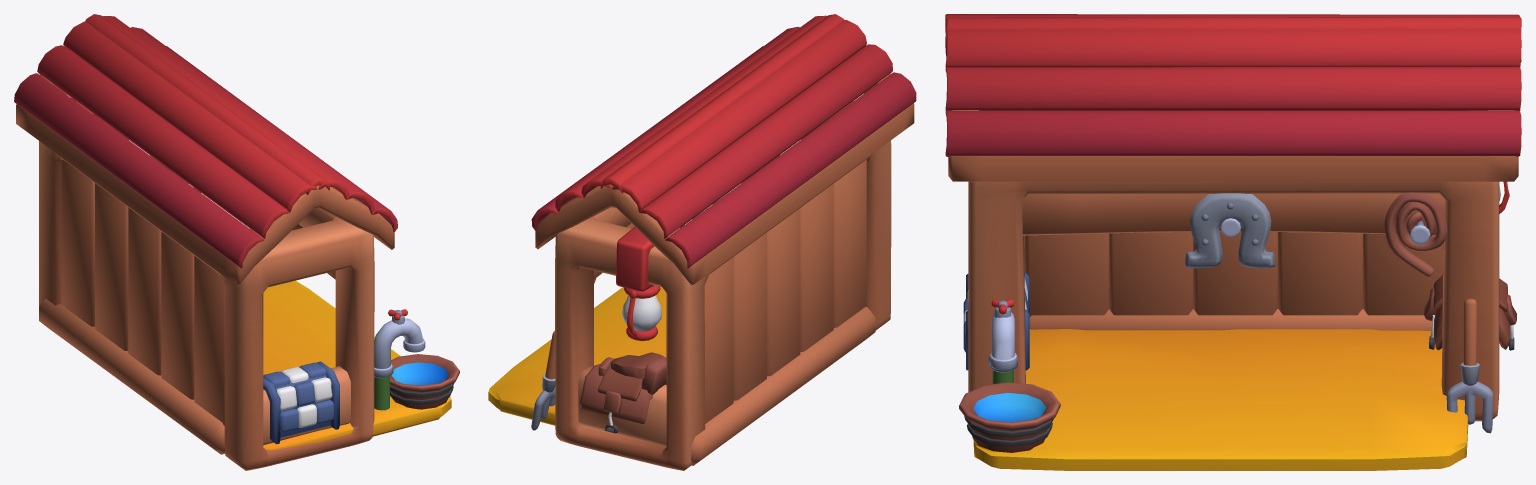
Rendered from Horse_Shelter.fbx.
3 views of the same model, side by side, from view 1: azimuth 30°, elevation 25°; view 2: azimuth 150°, elevation 25°; view 3: azimuth 270°, elevation 25° (orthographic). The views are drawn at different scales.
Parts seen in each view (by area): view 1: Cube.023; view 2: Cube.023; view 3: Cube.023.
Part boxes in pixels (box(x1,y1,x2,y2)): Cube.023: box(14, 14, 459, 470); Cube.023: box(488, 14, 916, 470); Cube.023: box(945, 14, 1521, 470).
Bounding box in the file's own units: 489 × 556 × 795.
Materials: 1 (1 with a texture image).
